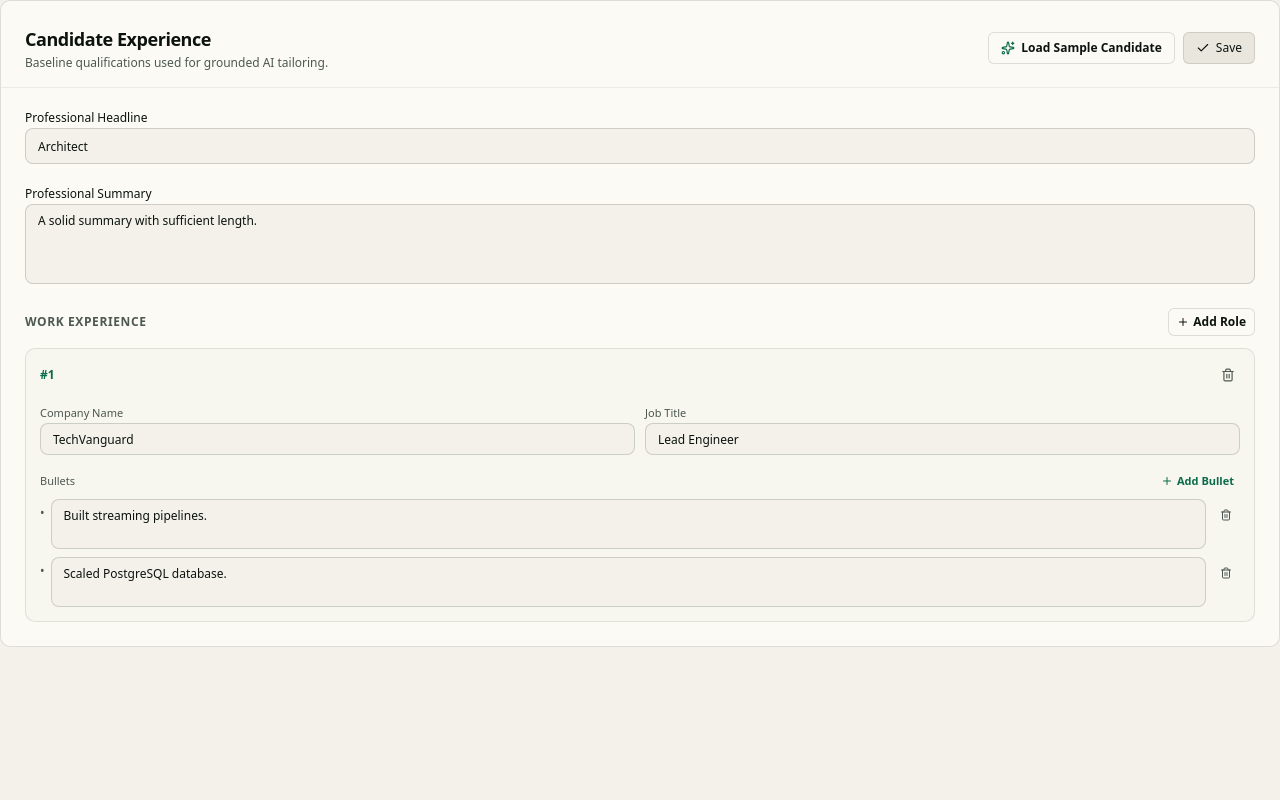
Test: ExperienceForm (covers: AC-2, AC-3, AC-10) › displays error notification when saveCandidateProfile fails
What coordinates should you click on to do the following:
click the button "Save"
I would click on:
 (1219, 48)
Its box is [1183, 32, 1255, 64].
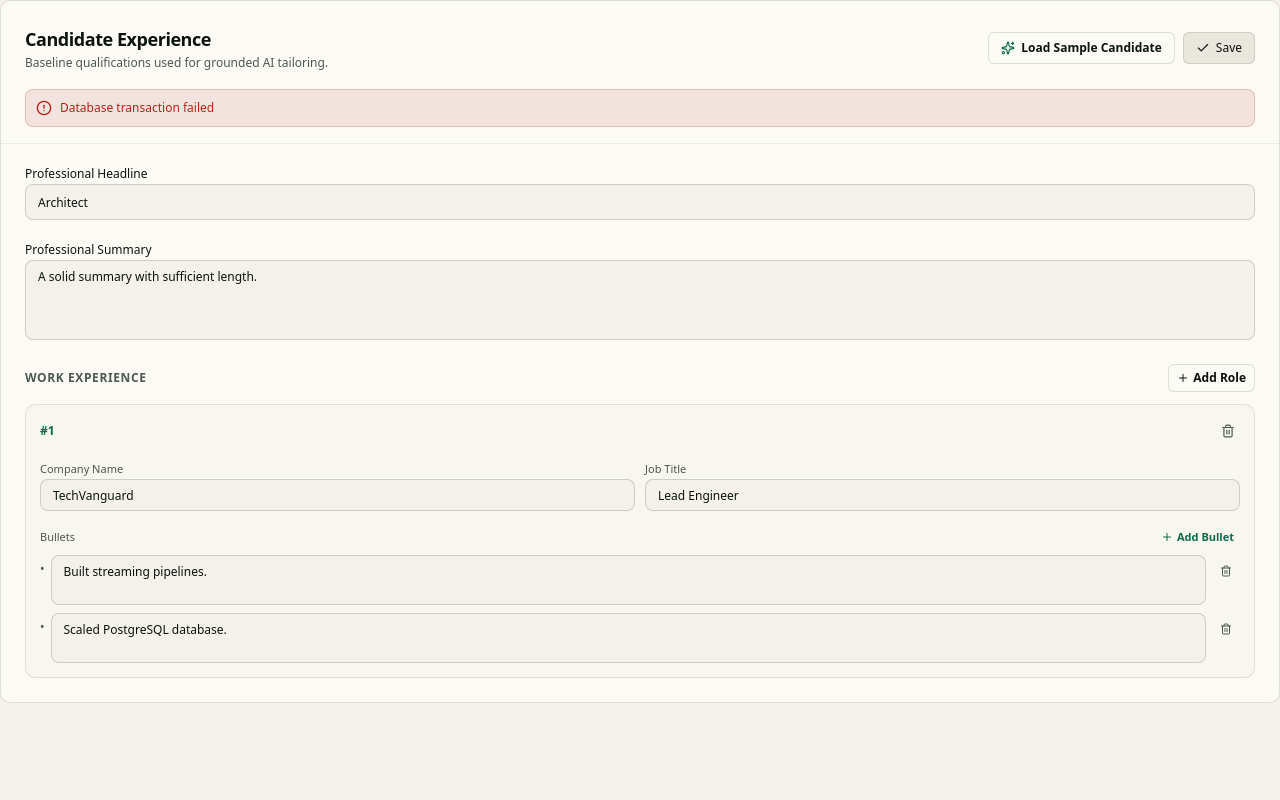
Expected: the text "Database transaction failed" is shown, [60, 100, 214, 116]
